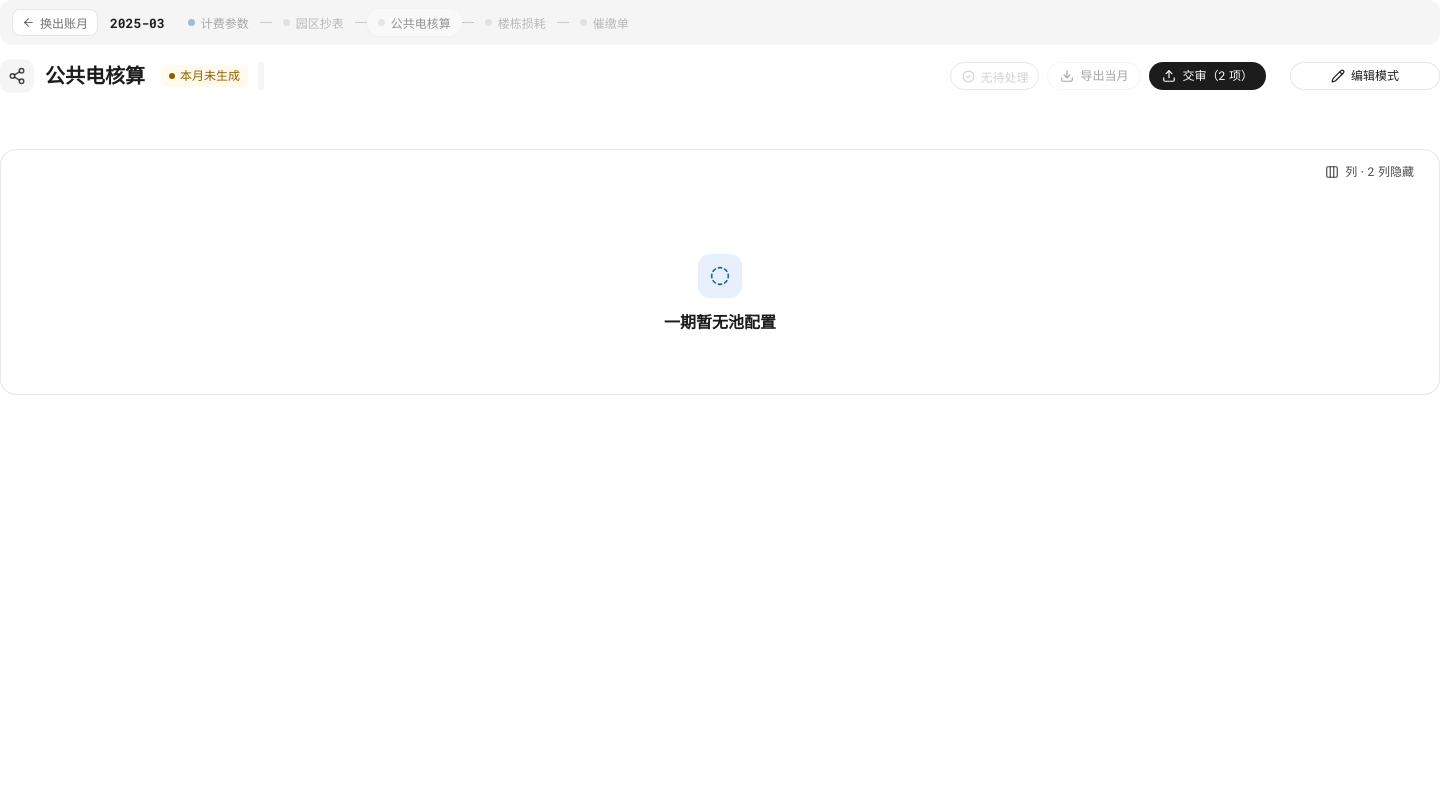
Test: PoolLedgerView 写口守卫 › ② KeepAlive 停用(切页签)→ 问题面板收起,切回来不还开着
The image size is (1440, 810).
Step 1. Click the button with class "fac" → (995, 76), box [950,62,1039,90]
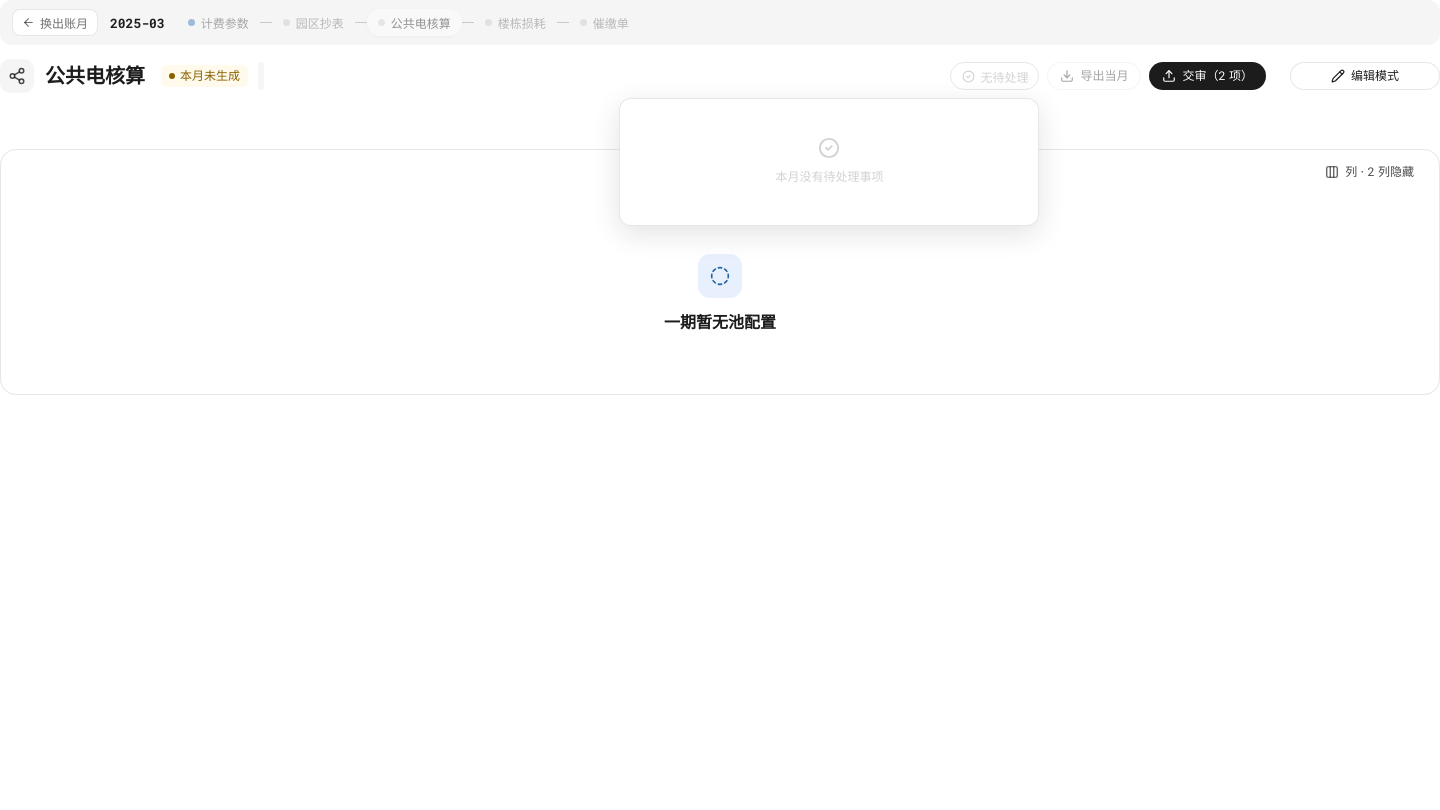
Expected: the element with class "fap" is shown, [775,137,883,184]
